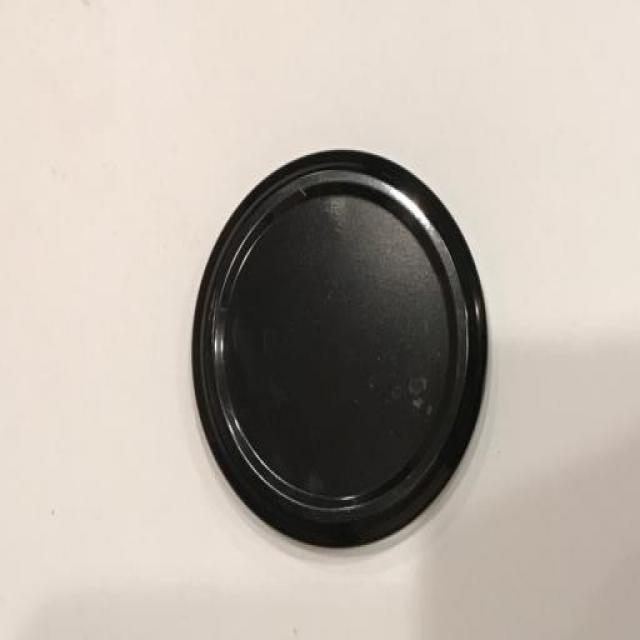metel: (189, 135, 510, 570)
